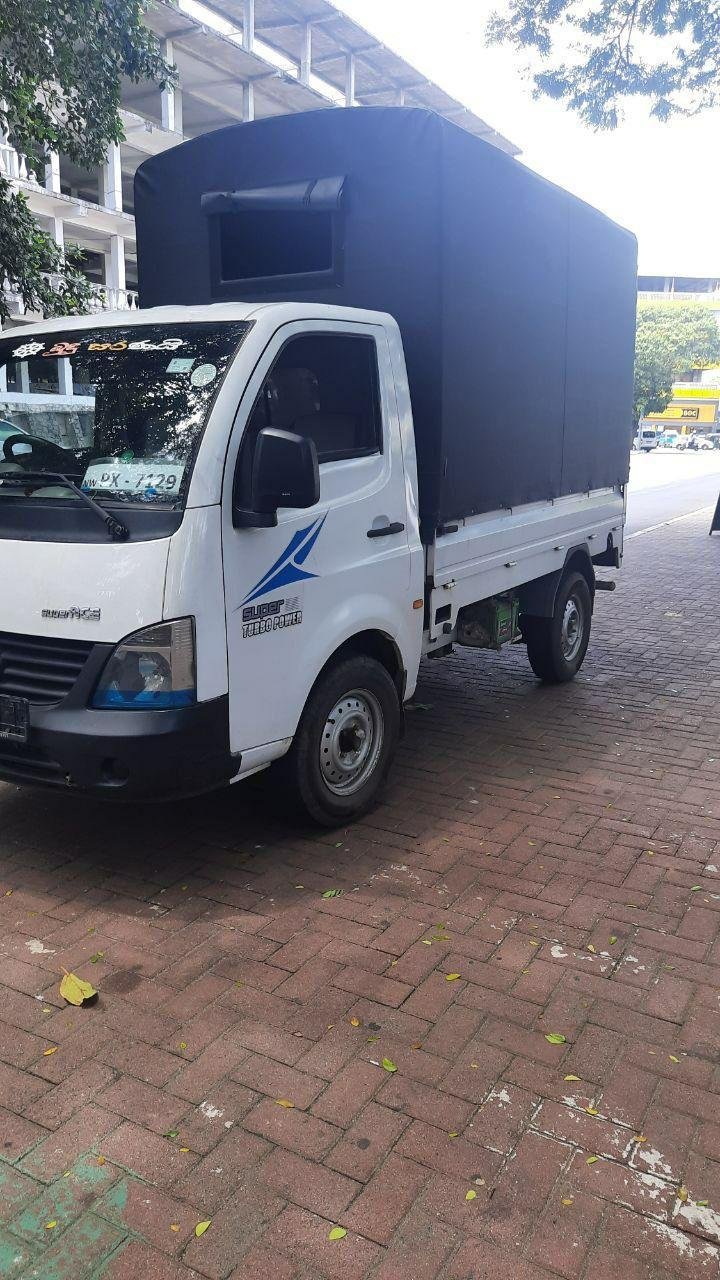truck: (1, 104, 637, 829)
